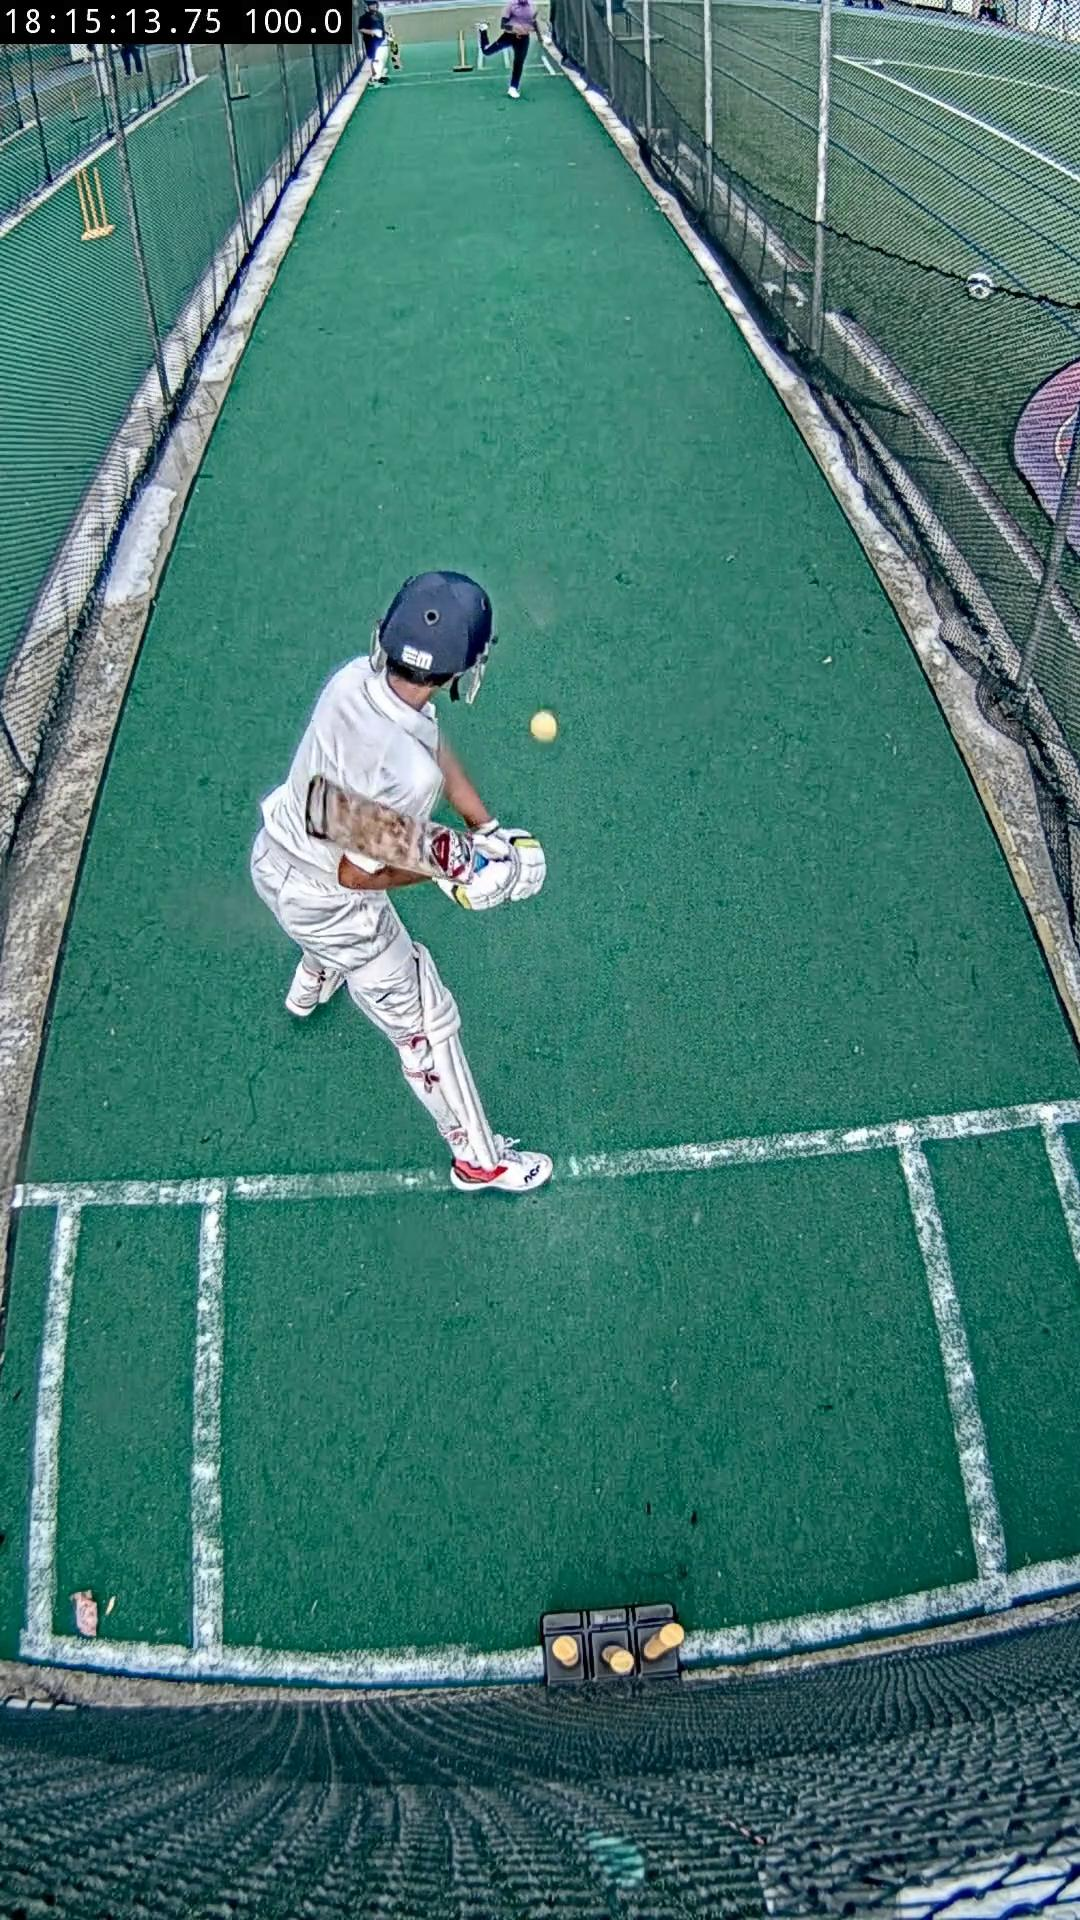ball: (529, 708, 559, 742)
bat: (307, 777, 476, 881)
gloves: (443, 825, 547, 911)
helmet: (372, 570, 495, 703)
pads: (417, 945, 502, 1170)
stumps: (541, 1605, 686, 1688)
